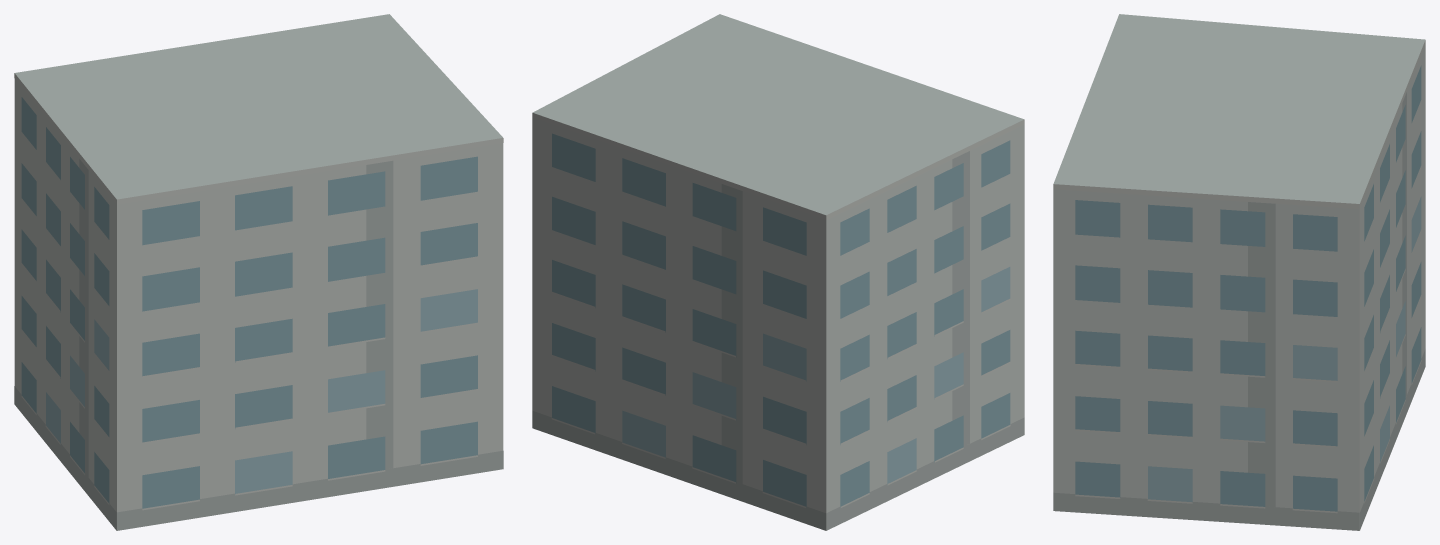
The model's file is survey-upis-32781424.glb.
3 views of the same model, side by side, from view 1: azimuth 30°, elevation 25°; view 2: azimuth 150°, elevation 25°; view 3: azimuth 270°, elevation 25° (orthographic). The views are drawn at different scales.
Visible parts, largest first — view 1: survey-upis-32781424.tmp; view 2: survey-upis-32781424.tmp; view 3: survey-upis-32781424.tmp.
Part boxes in pixels (<box>): survey-upis-32781424.tmp: <box>14,14,503,530</box>; survey-upis-32781424.tmp: <box>532,14,1024,530</box>; survey-upis-32781424.tmp: <box>1053,14,1425,530</box>.
Bounding box in the file's own units: 19.02 × 15.25 × 15.75.
